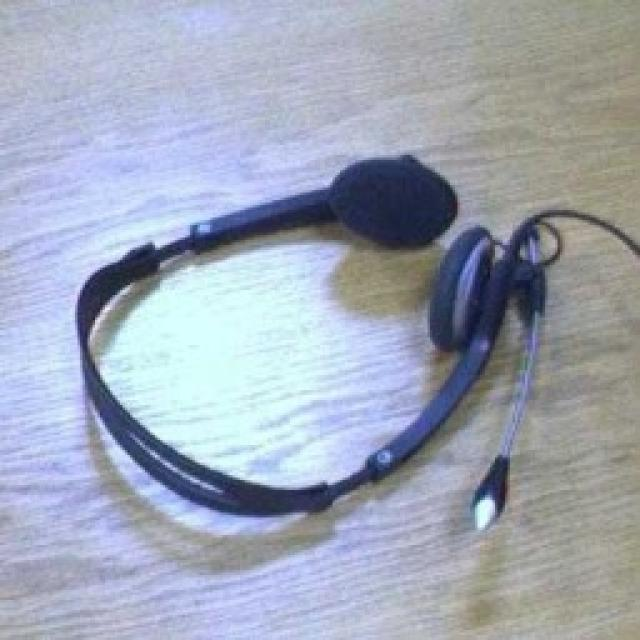headphones: (72, 150, 548, 530)
